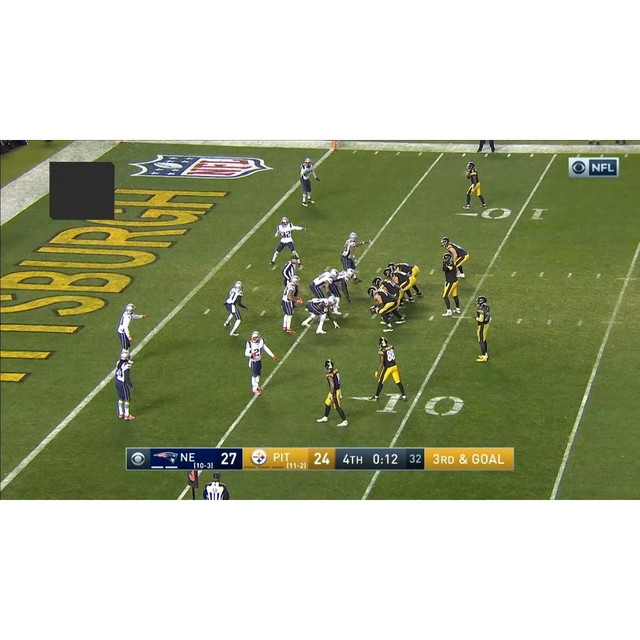american-football-player: (372, 338, 406, 402), (317, 359, 348, 427), (244, 331, 276, 394), (368, 285, 405, 332), (116, 302, 148, 355), (270, 216, 303, 267), (113, 350, 137, 420), (301, 295, 340, 333), (224, 280, 248, 336), (441, 250, 461, 315), (473, 296, 492, 361), (280, 275, 301, 333), (463, 160, 487, 208), (299, 157, 320, 206), (328, 269, 355, 304), (340, 232, 358, 281), (310, 268, 337, 298), (282, 254, 302, 288)
referee: (441, 236, 469, 279)
